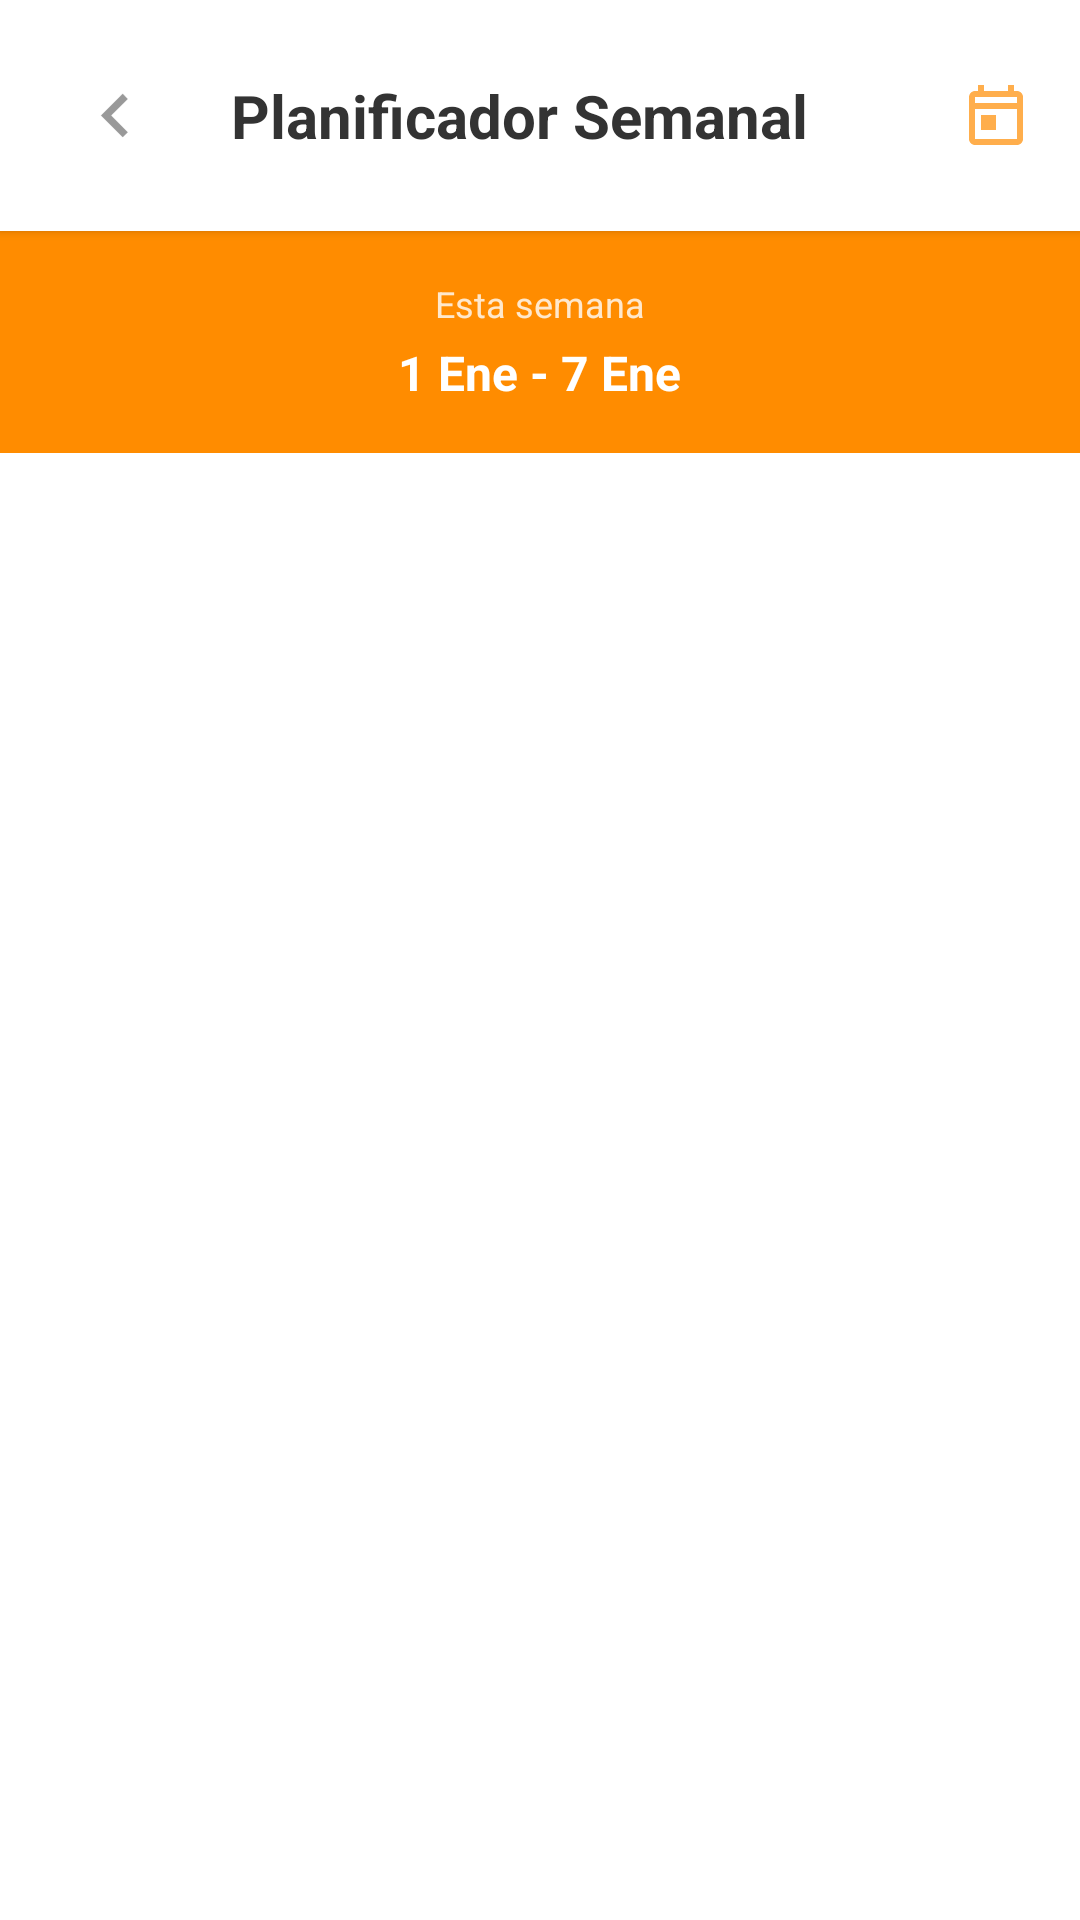

Icon click points for this 1080*1920 phone screenshot, format point (x, y):
calendar: point (996, 115)
